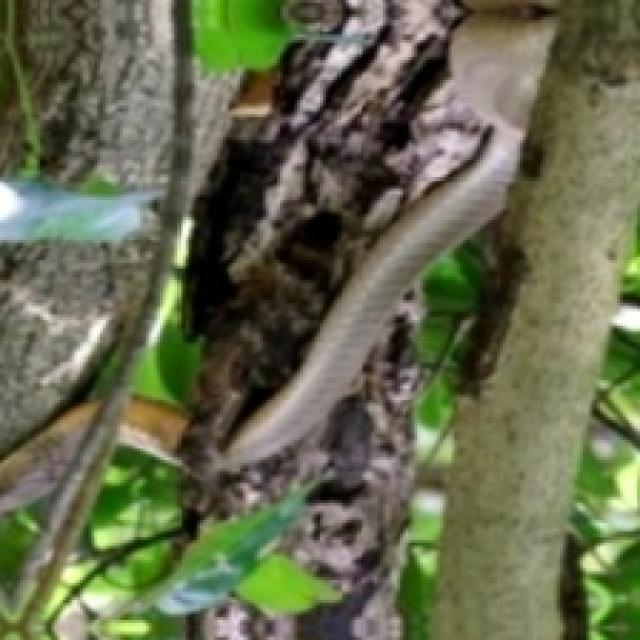king cobra: (223, 94, 523, 469)
